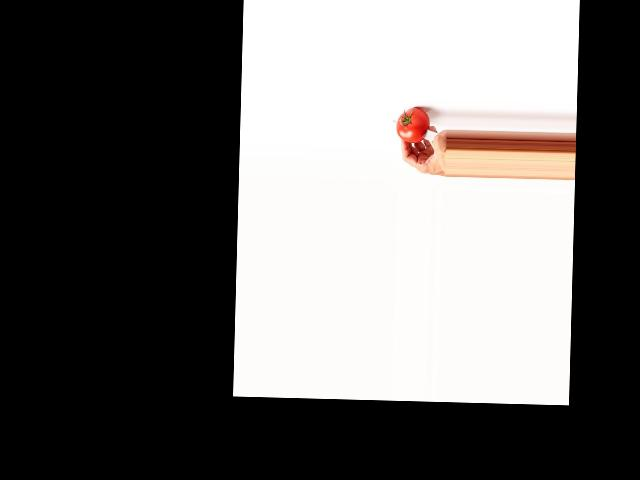tomato: (396, 107, 429, 143)
